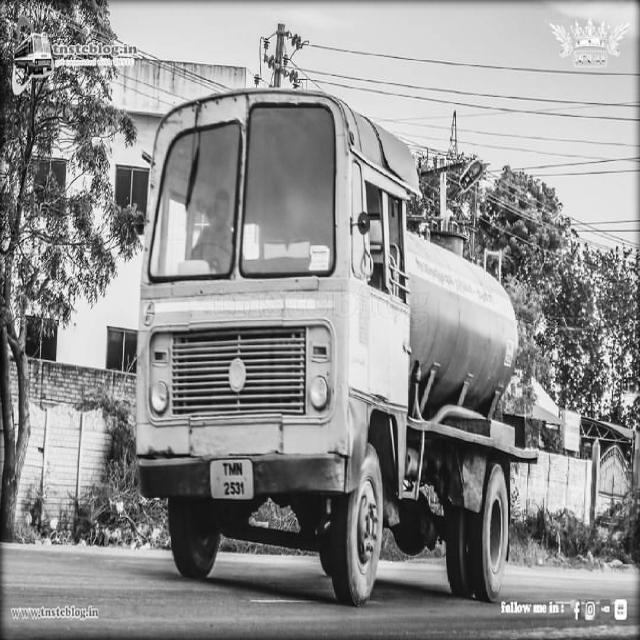Truck: (136, 85, 530, 608)
